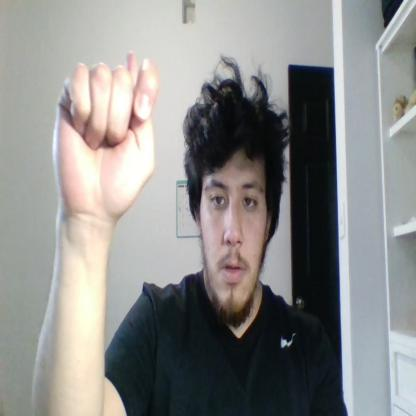T: (52, 50, 160, 213)
